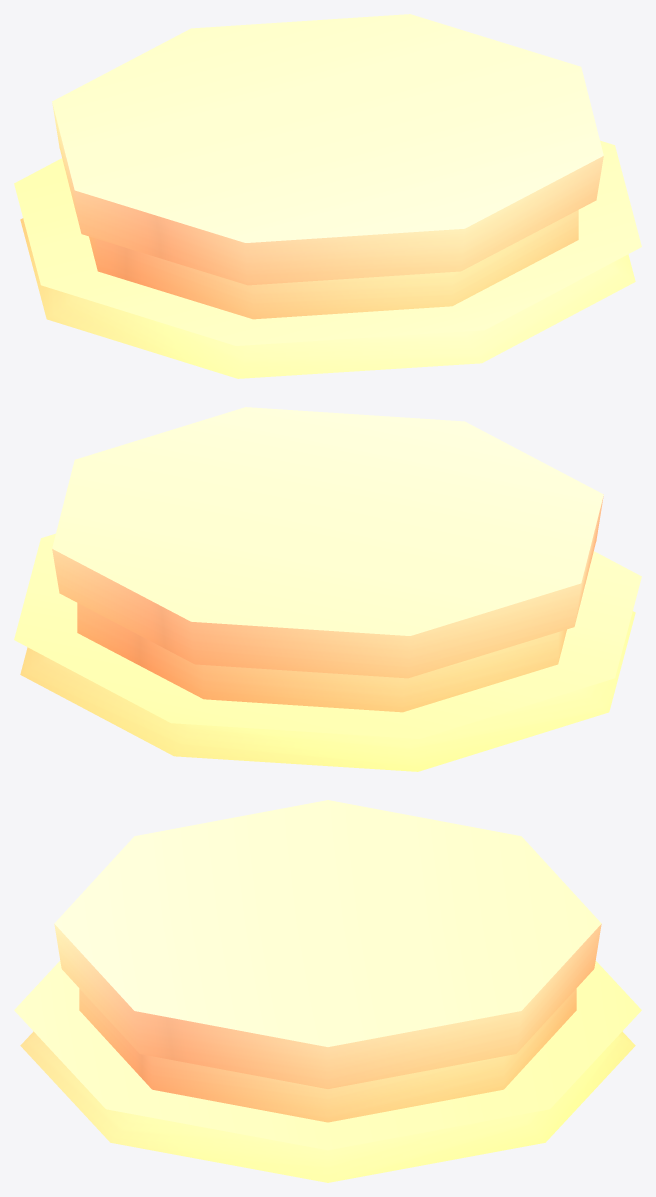
File: wood_guard_083_004.glb
3 renders of one model, top to bottom at view 1: azimuth 30°, elevation 25°; view 2: azimuth 150°, elevation 25°; view 3: azimuth 270°, elevation 25°, orthographic.
Parts seen in each view (by area): view 1: wood_guard_083.004; view 2: wood_guard_083.004; view 3: wood_guard_083.004.
Part boxes in pixels (x1,y1,x2,y2): wood_guard_083.004: [14, 14, 641, 378]; wood_guard_083.004: [14, 407, 641, 771]; wood_guard_083.004: [14, 800, 641, 1182].
Bounding box in the file's own units: 4.9 × 0.9958 × 4.64.
1 material, 1 textured.
